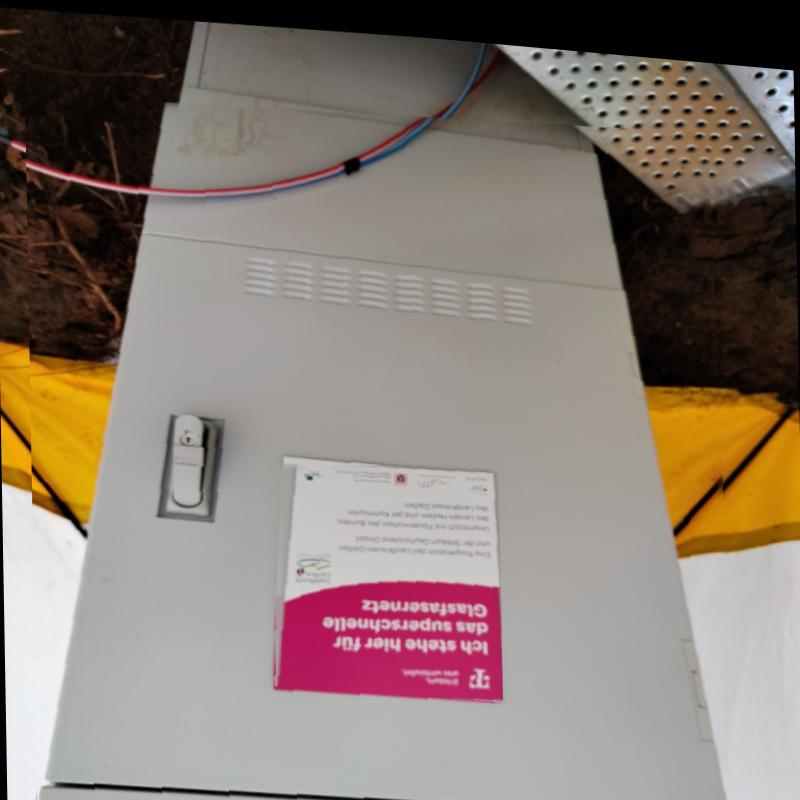NT-Gehause: (40, 97, 728, 800)
Steaker: (275, 456, 502, 688)
